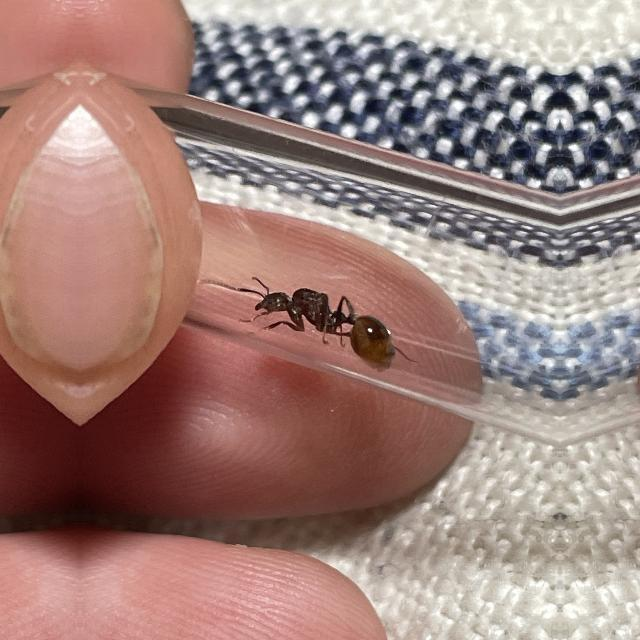Apheanogaster: (242, 251, 416, 387)
